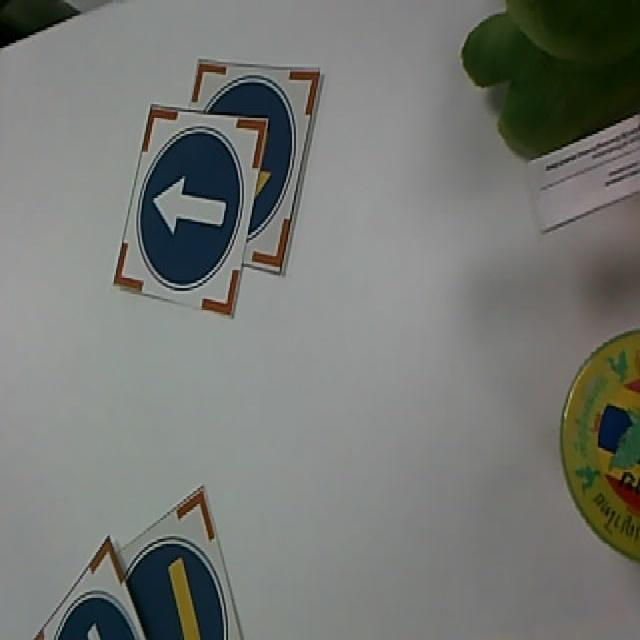straight: (137, 130, 242, 288)
turn: (118, 541, 227, 640)
